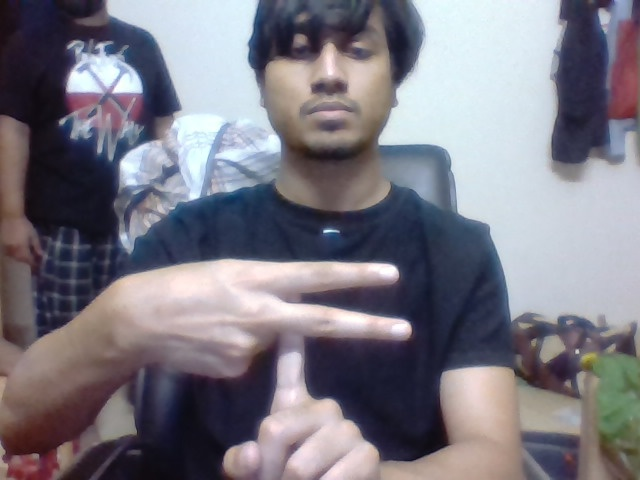F: (274, 256, 418, 397)
